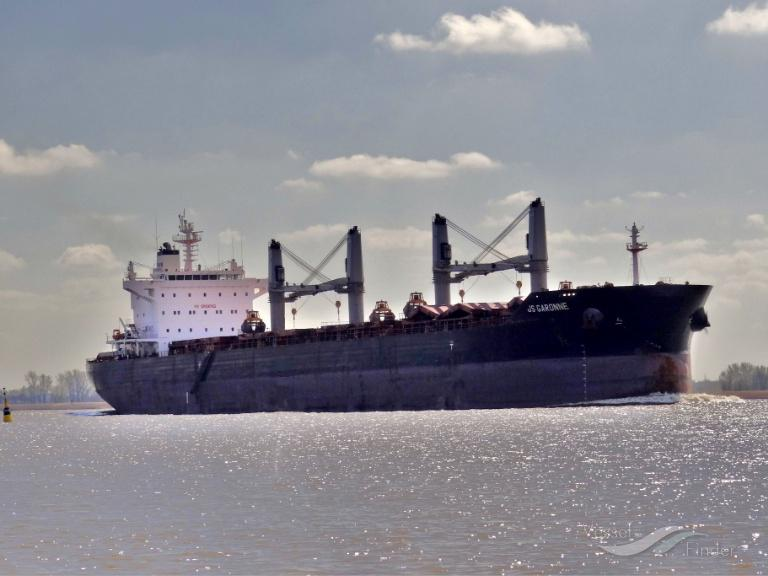OCR: (520, 299, 570, 317)
